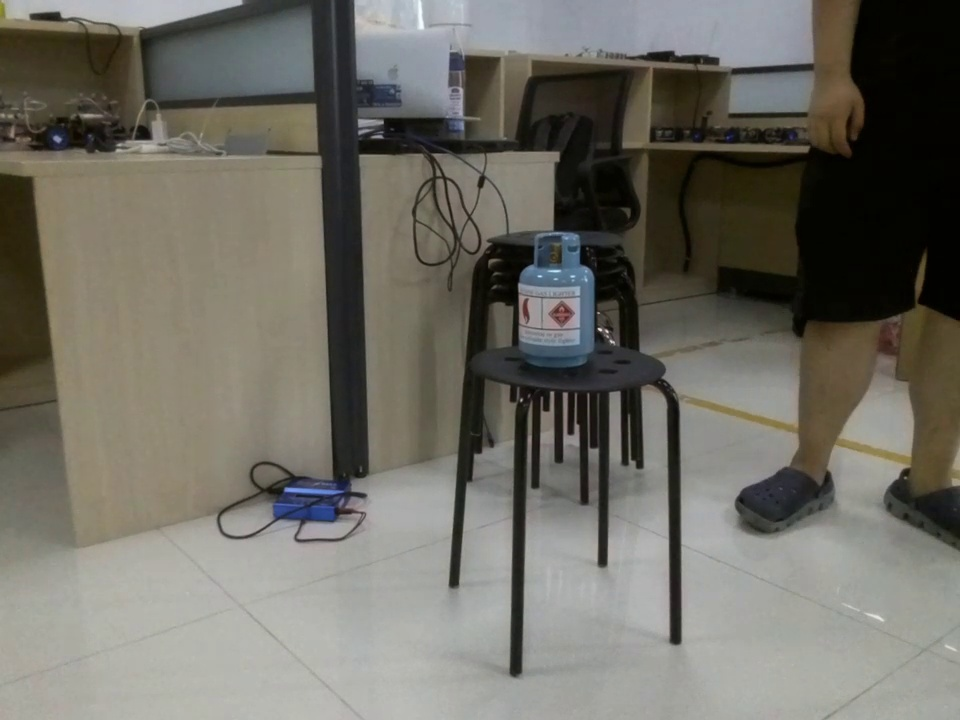gas tank: (513, 228, 604, 375)
